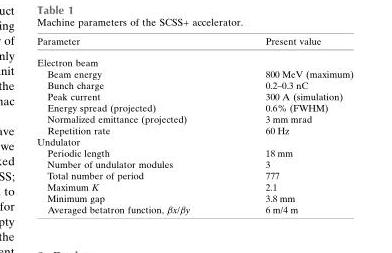table: (36, 36, 352, 214)
table column: (36, 36, 226, 214), (226, 36, 352, 214)
table column header: (36, 36, 352, 52)
table projected row header: (36, 52, 352, 68), (36, 136, 352, 147)
table row: (36, 36, 352, 52), (36, 52, 352, 68), (36, 79, 352, 91), (36, 124, 352, 136), (36, 158, 352, 170), (36, 68, 352, 79), (36, 91, 352, 102), (36, 102, 352, 113), (36, 113, 352, 124), (36, 136, 352, 147), (36, 147, 352, 158), (36, 170, 352, 181), (36, 181, 352, 192), (36, 192, 352, 203), (36, 203, 352, 214)
